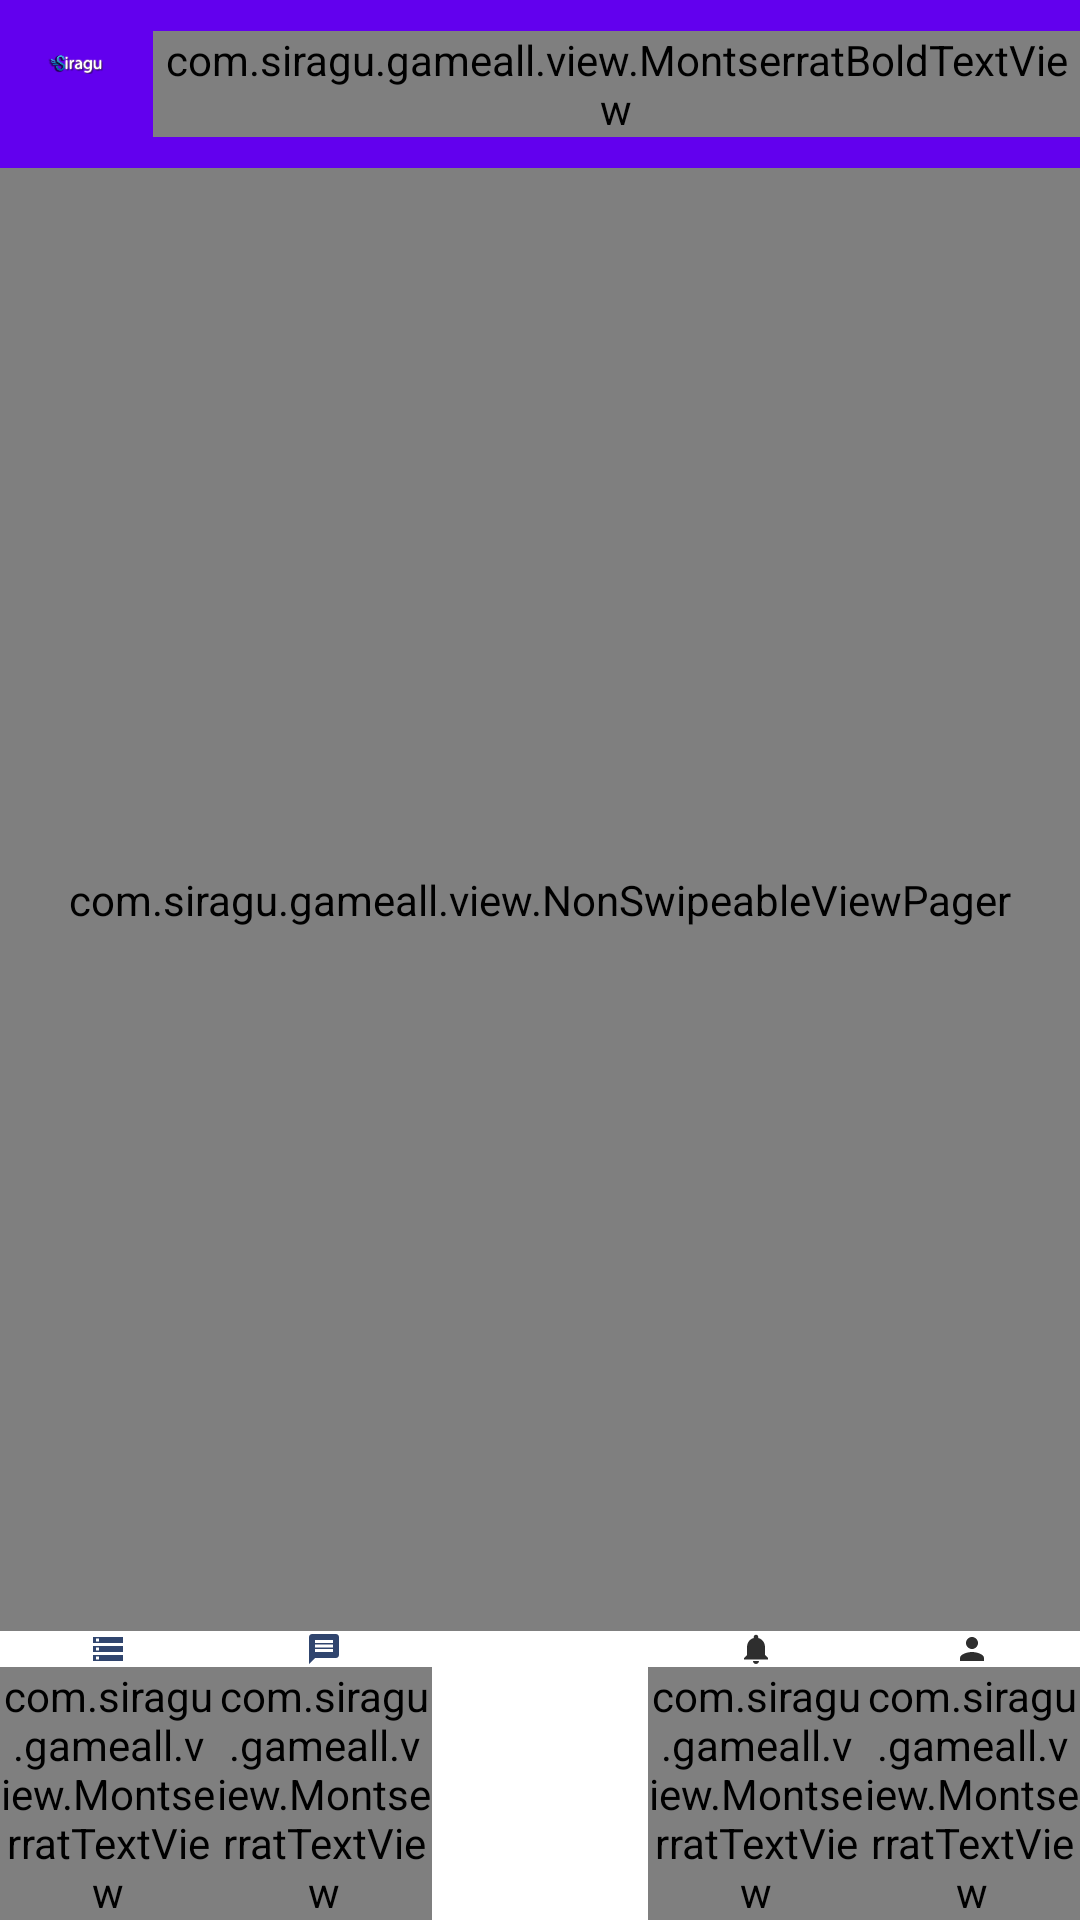

Screen size 1080px×1920px. Icon name, then its box in pixels as [left=x1, top=y1, right=x2, bottom=y2]:
message: [left=309, top=1634, right=339, bottom=1664]
notifications: [left=744, top=1634, right=768, bottom=1664]
profile: [left=960, top=1637, right=984, bottom=1661]
storage: [left=93, top=1637, right=123, bottom=1661]
